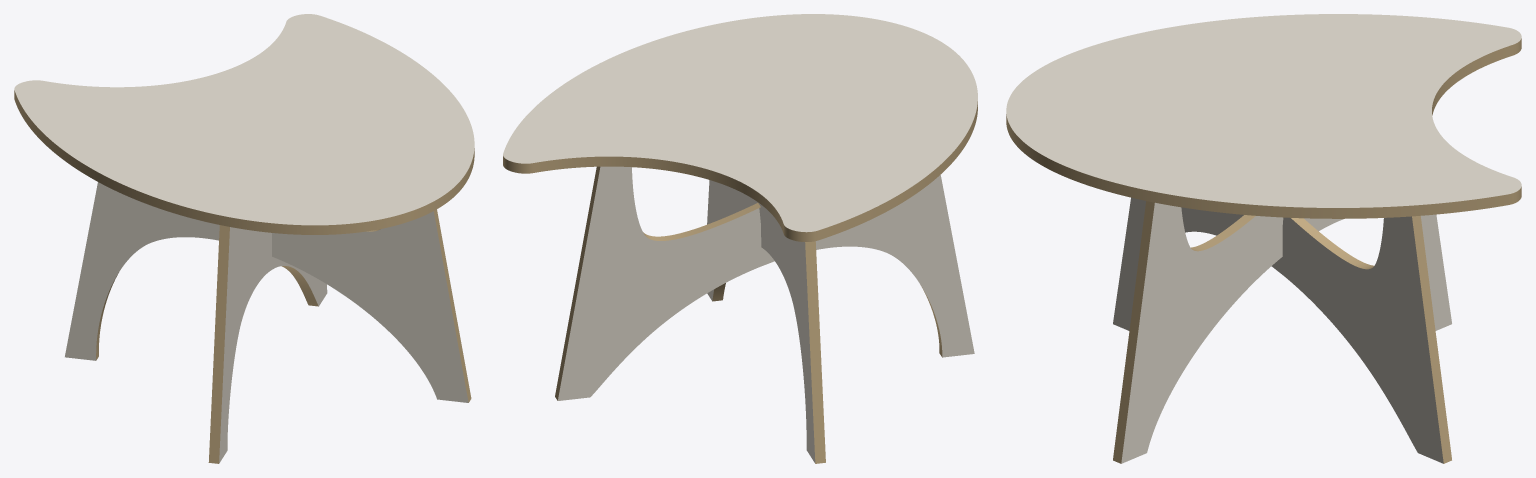
File: NODO_MESA_RATONA_EN_CRUZ_KIRI_V15_AR_PIPELINE_RACK.glb
3 renders of one model, left to right at view 1: azimuth 30°, elevation 25°; view 2: azimuth 150°, elevation 25°; view 3: azimuth 270°, elevation 25°, orthographic. The views are drawn at different scales.
Visible parts, largest first — view 1: Tapa_cuerpo_18mm, Pata_B_cuerpo, Pata_A_cuerpo, Tapa_canto_18mm_visible, Pata_A_canto, Pata_B_canto; view 2: Tapa_cuerpo_18mm, Pata_A_cuerpo, Pata_B_cuerpo, Tapa_canto_18mm_visible, Pata_B_canto, Pata_A_canto; view 3: Tapa_cuerpo_18mm, Pata_A_cuerpo, Pata_B_cuerpo, Tapa_canto_18mm_visible, Pata_A_canto, Pata_B_canto.
Part boxes in pixels (left/top/right/bottom): Tapa_cuerpo_18mm: left=14, top=14, right=474, bottom=225; Pata_B_cuerpo: left=65, top=182, right=468, bottom=402; Pata_A_cuerpo: left=219, top=227, right=327, bottom=463; Tapa_canto_18mm_visible: left=14, top=90, right=474, bottom=234; Pata_A_canto: left=208, top=225, right=318, bottom=463; Pata_B_canto: left=96, top=209, right=471, bottom=402; Tapa_cuerpo_18mm: left=503, top=14, right=977, bottom=232; Pata_A_cuerpo: left=558, top=166, right=974, bottom=400; Pata_B_cuerpo: left=707, top=180, right=815, bottom=463; Tapa_canto_18mm_visible: left=503, top=101, right=977, bottom=241; Pata_B_canto: left=712, top=241, right=825, bottom=463; Pata_A_canto: left=555, top=166, right=942, bottom=400; Tapa_cuerpo_18mm: left=1006, top=14, right=1521, bottom=207; Pata_A_cuerpo: left=1113, top=197, right=1443, bottom=463; Pata_B_cuerpo: left=1121, top=202, right=1451, bottom=463; Tapa_canto_18mm_visible: left=1006, top=38, right=1521, bottom=218; Pata_A_canto: left=1291, top=216, right=1451, bottom=463; Pata_B_canto: left=1113, top=201, right=1255, bottom=463.
Bounding box in the file's own units: 0.6924 × 0.468 × 0.7771.
